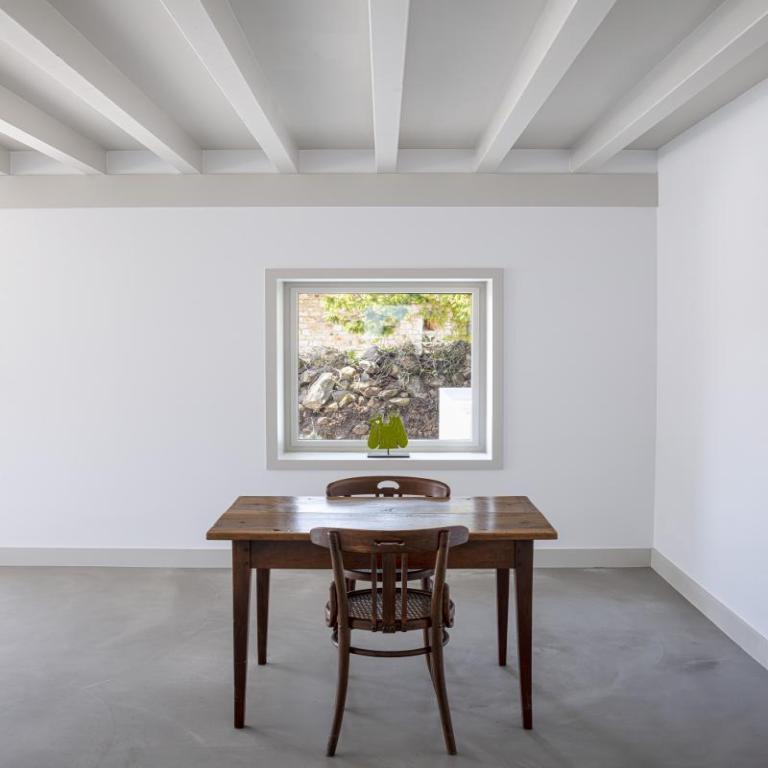white-walls: (18, 172, 761, 622)
